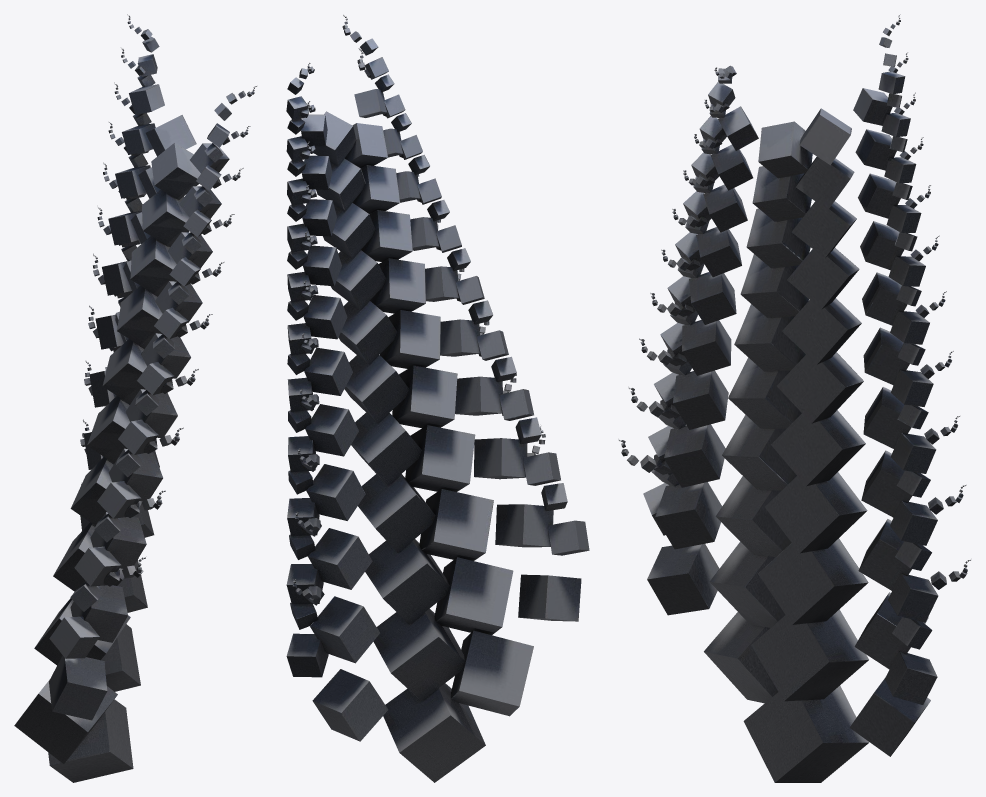
Rendered from fractal_1.glb.
The picture shows the model from 3 angles, left to right: view 1: azimuth 30°, elevation 25°; view 2: azimuth 150°, elevation 25°; view 3: azimuth 270°, elevation 25°; orthographic projection. The views are drawn at different scales.
Size of the model in its own units: 0.7828 by 2.43 by 0.9525.
1 material, 1 textured.
